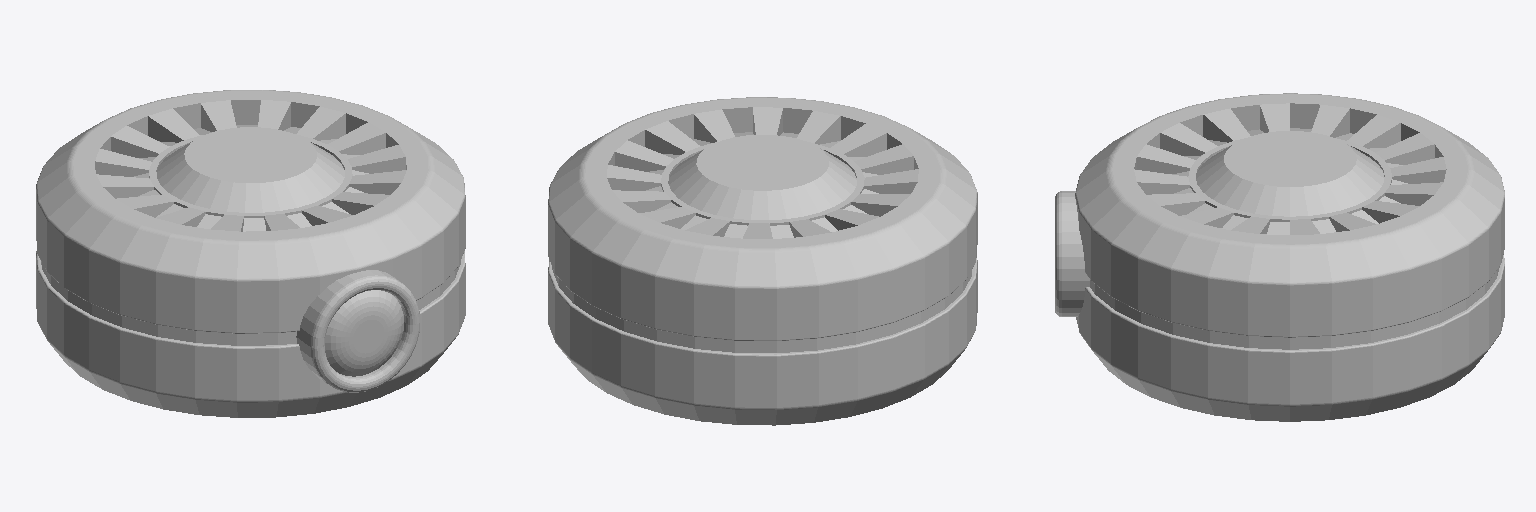
Rendered from robot_.obj.
3 renders of one model, left to right at view 1: azimuth 30°, elevation 25°; view 2: azimuth 150°, elevation 25°; view 3: azimuth 270°, elevation 25°, orthographic.
Visible parts, largest first — view 1: Cylinder.008, Cylinder.006, Cylinder.007, Cylinder, Cylinder.005, Cylinder.003, Cylinder.009, Cylinder.004, Cylinder.001, Cylinder.002; view 2: Cylinder.008, Cylinder.007, Cylinder.006, Cylinder, Cylinder.005, Cylinder.009, Cylinder.001; view 3: Cylinder.008, Cylinder.007, Cylinder.006, Cylinder, Cylinder.005, Cylinder.009, Cylinder.001, Cylinder.002, Cylinder.004.
Boxes of the visible parts, <box> form: Cylinder.008: <box>37,90,463,278</box>; Cylinder.006: <box>36,145,465,333</box>; Cylinder.007: <box>36,251,465,402</box>; Cylinder: <box>95,100,406,231</box>; Cylinder.005: <box>134,125,368,231</box>; Cylinder.003: <box>325,290,403,376</box>; Cylinder.009: <box>50,338,455,417</box>; Cylinder.004: <box>311,275,419,392</box>; Cylinder.001: <box>41,261,460,345</box>; Cylinder.002: <box>296,270,399,380</box>; Cylinder.008: <box>549,97,975,285</box>; Cylinder.007: <box>548,258,977,409</box>; Cylinder.006: <box>548,156,977,340</box>; Cylinder: <box>607,107,918,238</box>; Cylinder.005: <box>646,132,878,238</box>; Cylinder.009: <box>558,346,964,425</box>; Cylinder.001: <box>552,267,971,352</box>; Cylinder.008: <box>1076,93,1503,282</box>; Cylinder.007: <box>1076,255,1504,406</box>; Cylinder.006: <box>1075,160,1504,337</box>; Cylinder: <box>1134,103,1446,234</box>; Cylinder.005: <box>1172,128,1407,234</box>; Cylinder.009: <box>1094,351,1487,421</box>; Cylinder.001: <box>1090,267,1499,349</box>; Cylinder.002: <box>1062,191,1089,316</box>; Cylinder.004: <box>1055,191,1061,316</box>.
Size of the model in its own units: 2 by 0.9948 by 2.1.